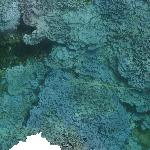dead: (1, 2, 147, 145)
